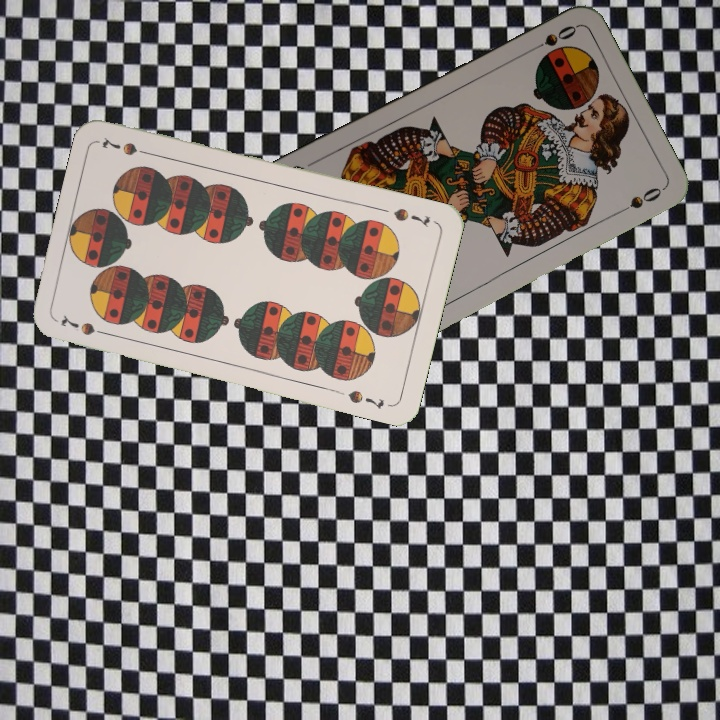S7: (56, 311, 112, 338), (389, 204, 433, 230)
SO: (525, 21, 580, 55)
